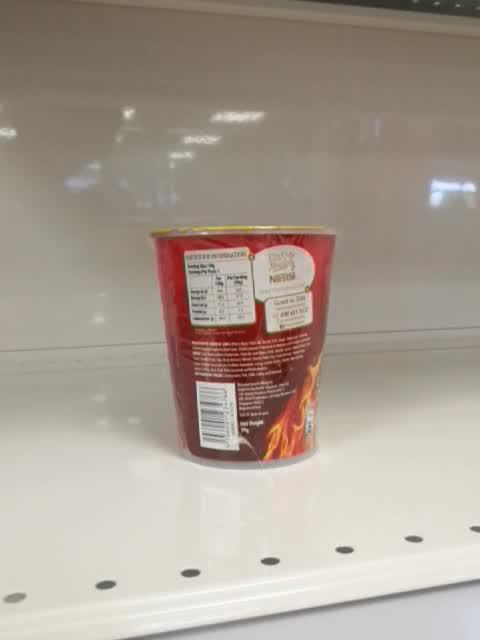maggi: (150, 223, 338, 471)
